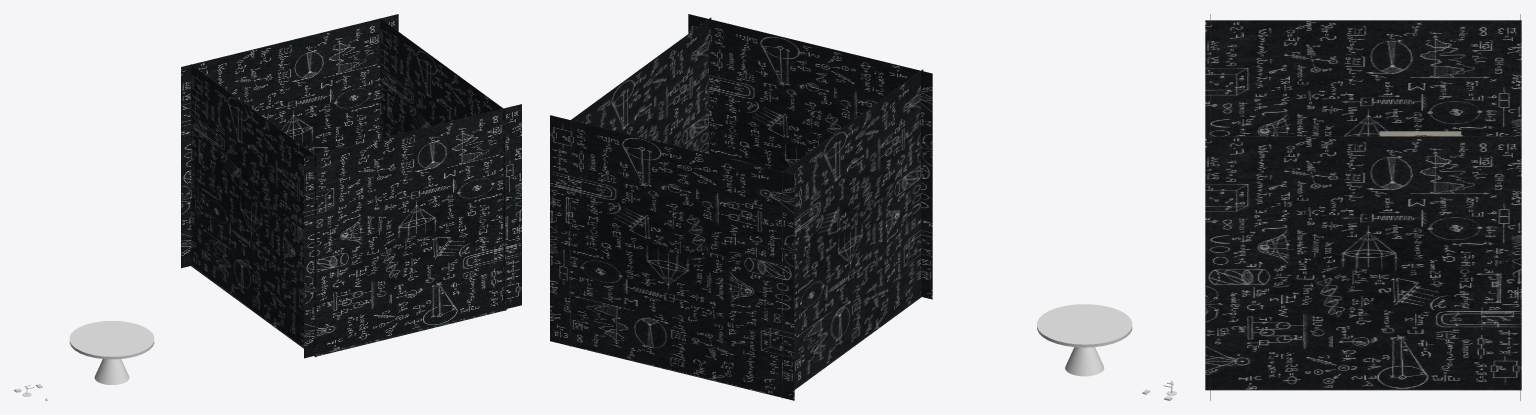
The model's file is ALL.fbx.
3 views of the same model, side by side, from view 1: azimuth 30°, elevation 25°; view 2: azimuth 150°, elevation 25°; view 3: azimuth 270°, elevation 25° (orthographic). The views are drawn at different scales.
Visible parts, largest first — view 1: wall4, wall3, wall5, wall2, плато, wall1, ножка; view 2: wall5, wall3, wall4, wall2, плато, ножка, wall1; view 3: wall2, wall3, wall1, Plane001, wall5, wall4.
Part boxes in pixels (bbox=[...]): wall4: bbox=[304, 104, 521, 358]; wall3: bbox=[191, 64, 316, 356]; wall5: bbox=[181, 14, 398, 268]; wall2: bbox=[379, 18, 505, 310]; плато: bbox=[69, 320, 154, 359]; wall1: bbox=[190, 265, 506, 356]; ножка: bbox=[94, 359, 129, 384]; wall5: bbox=[550, 115, 794, 400]; wall3: bbox=[782, 69, 923, 398]; wall4: bbox=[688, 14, 932, 299]; wall2: bbox=[570, 17, 711, 346]; плато: bbox=[1037, 304, 1132, 347]; ножка: bbox=[1065, 347, 1104, 376]; wall1: bbox=[568, 296, 922, 397]; wall2: bbox=[1205, 136, 1521, 388]; wall3: bbox=[1205, 20, 1521, 136]; wall1: bbox=[1205, 388, 1521, 390]; Plane001: bbox=[1379, 131, 1461, 136]; wall5: bbox=[1520, 14, 1520, 400]; wall4: bbox=[1210, 14, 1210, 400].
Size of the model in its own units: 131 by 53.9 by 60.67.
